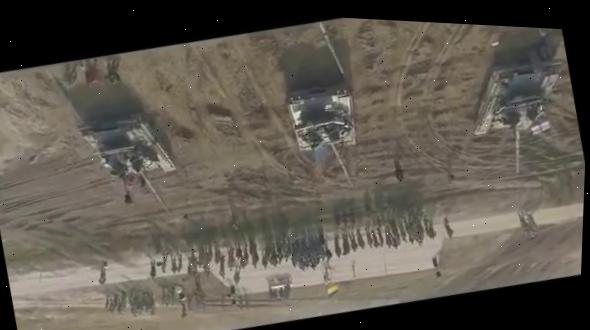tank: (457, 44, 584, 184), (70, 101, 189, 230), (279, 76, 371, 198)
